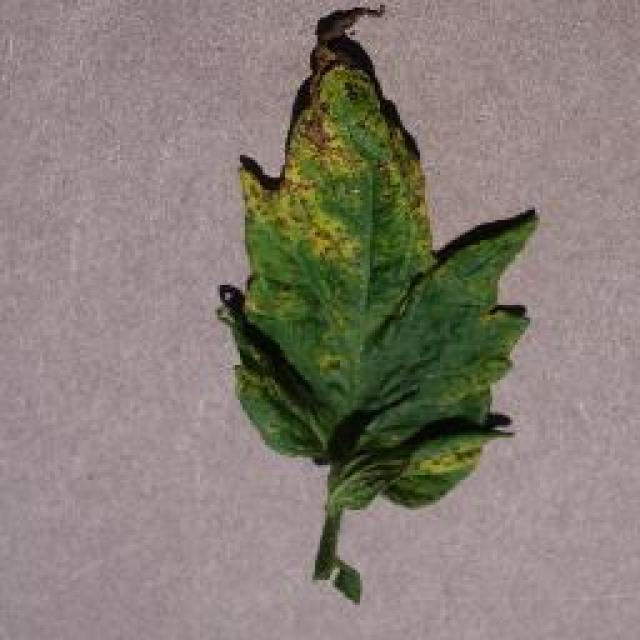Tomato Septoria spot leaf: (217, 12, 537, 516)
